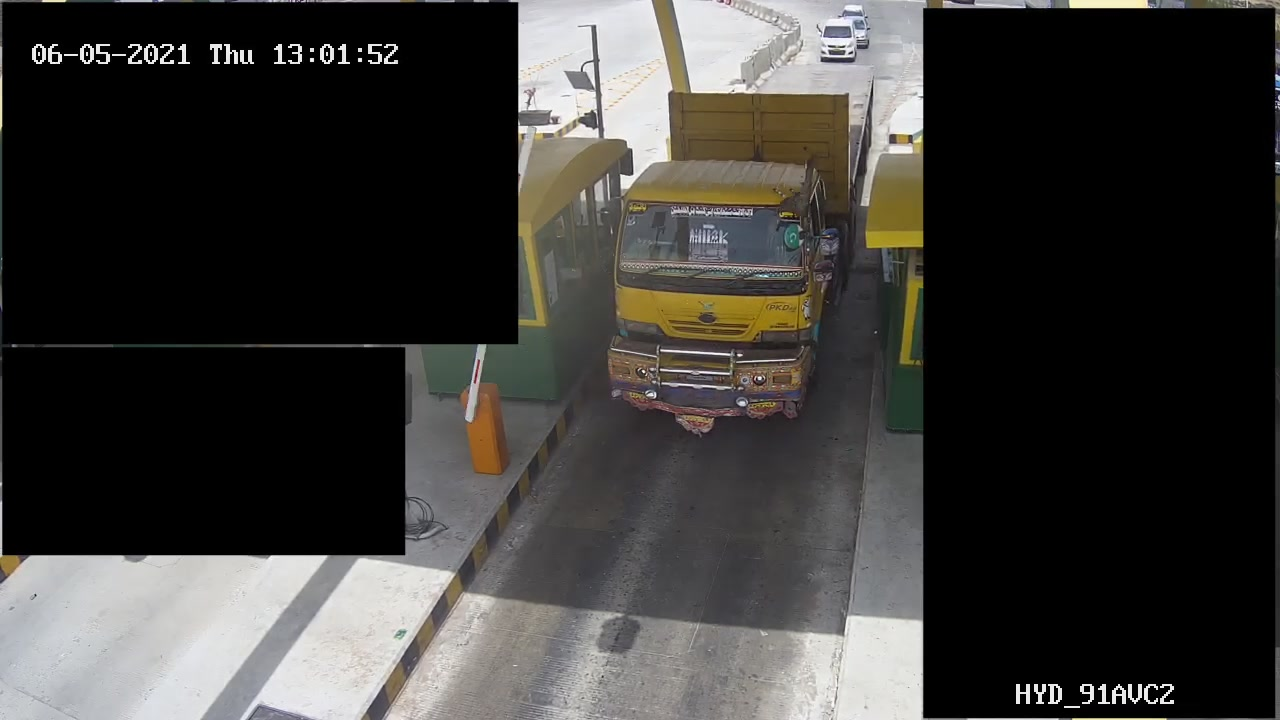F5: (614, 72, 880, 428)
